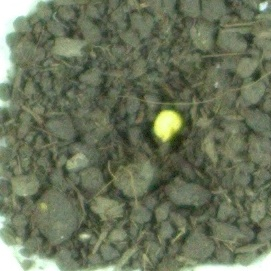pepper seed: (58, 35, 243, 180)
